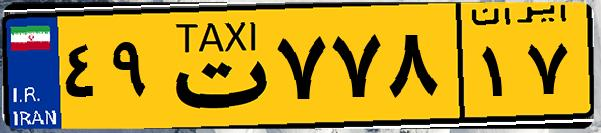1: (475, 38, 525, 113)
4: (57, 26, 110, 100)
7: (270, 28, 330, 110), (330, 28, 385, 110), (525, 38, 570, 115)
8: (385, 28, 445, 110)
9: (110, 28, 158, 98)
ت: (158, 12, 270, 120)
